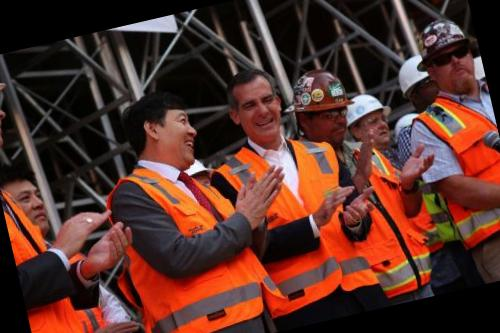no_helmet: (120, 82, 209, 174), (216, 58, 292, 146), (0, 156, 61, 242)
